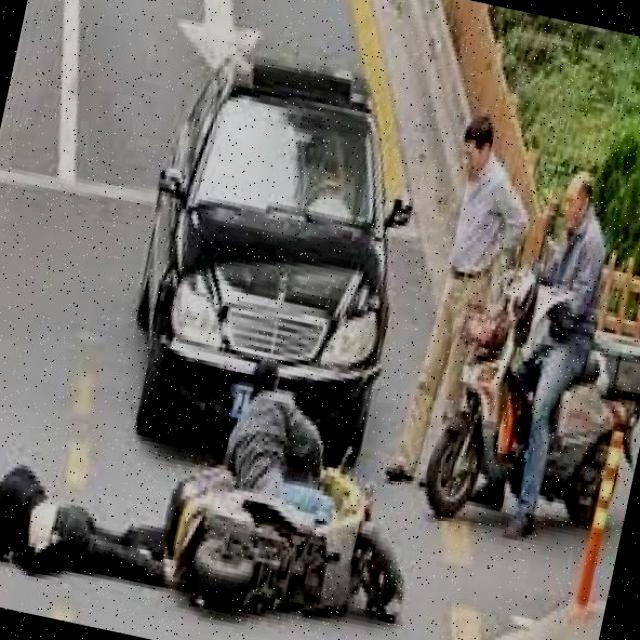accident: (131, 393, 439, 640)
